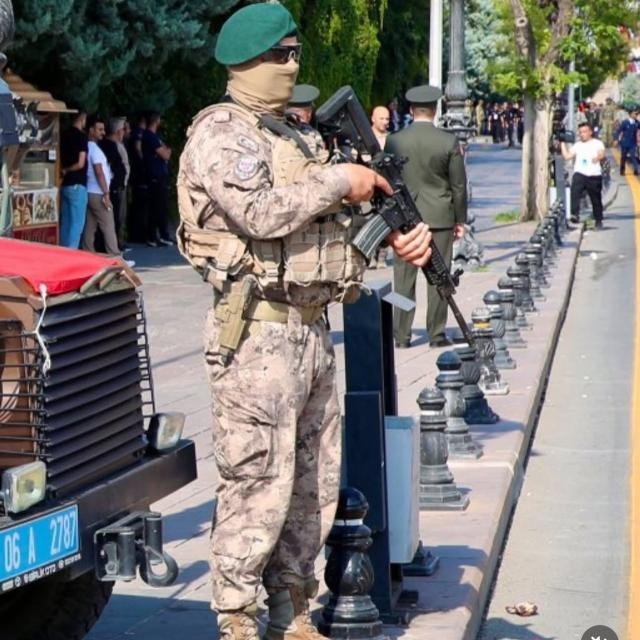poh_personel: (178, 2, 432, 640)
